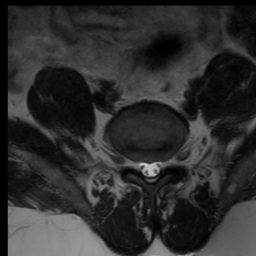CCS_stenosis: (146, 152, 155, 188)
LFS_normal: (164, 150, 174, 176)
LLS_normal: (155, 152, 164, 182)
RFS_normal: (129, 150, 138, 178)
RLS_normal: (138, 152, 146, 181)
